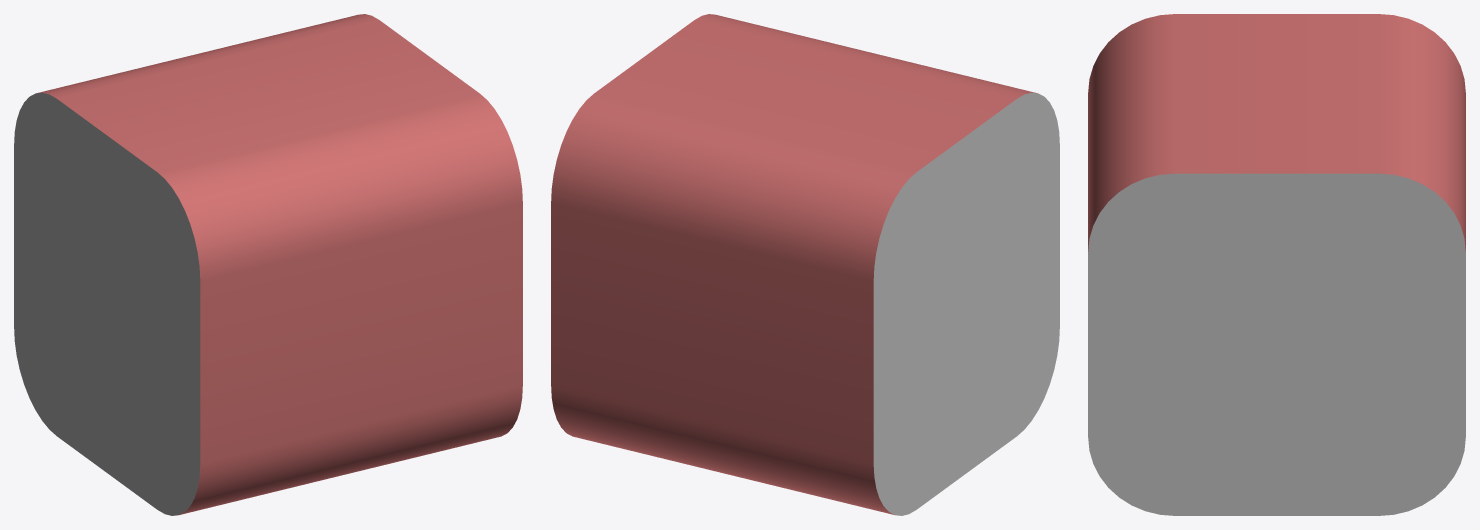
File: hophey_roundcube.fbx
The picture shows the model from 3 angles, left to right: view 1: azimuth 30°, elevation 25°; view 2: azimuth 150°, elevation 25°; view 3: azimuth 270°, elevation 25°; orthographic projection.
Parts seen in each view (by area): view 1: RoundCube; view 2: RoundCube; view 3: RoundCube.
Boxes of the visible parts, x1,y1,x2,y2 form: RoundCube: (14,14,522,515); RoundCube: (551,14,1059,515); RoundCube: (1088,14,1465,515).
Bounding box in the file's own units: 100 × 100 × 100.
